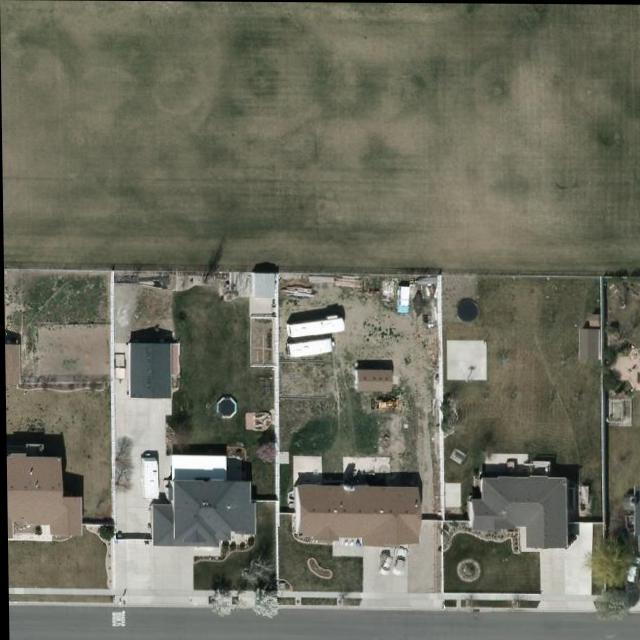vehicle: (389, 545, 407, 577), (621, 556, 640, 586), (376, 554, 390, 575)
